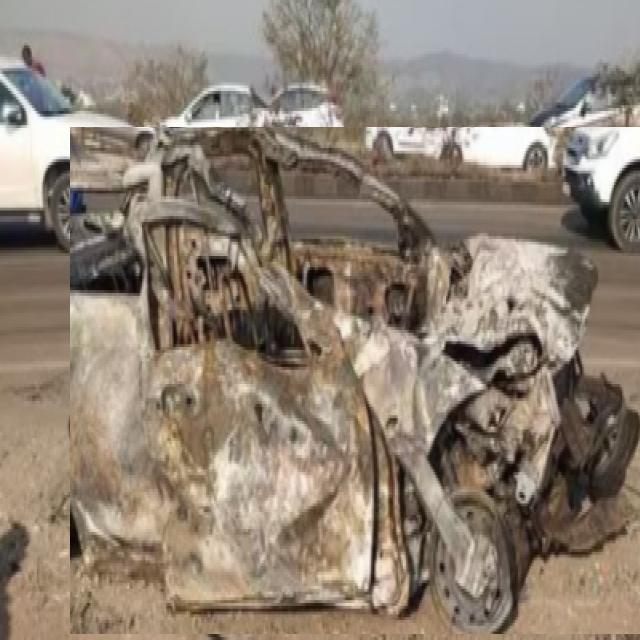accident: (70, 127, 640, 634)
car: (0, 58, 145, 250)
